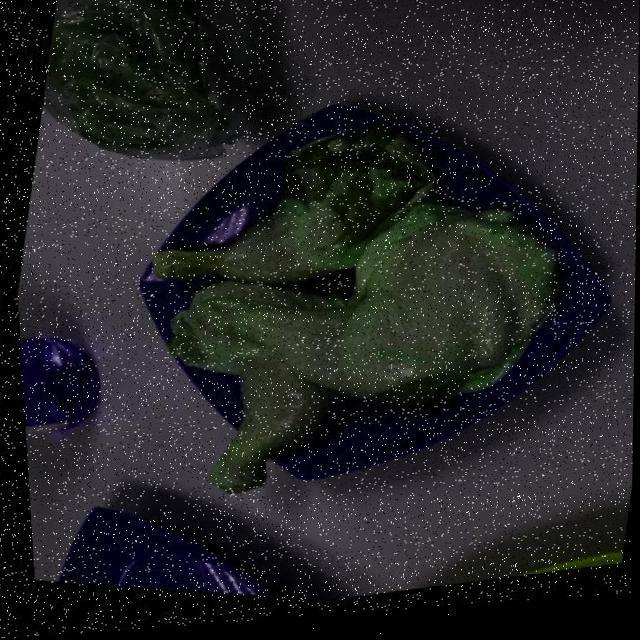quater: (188, 246, 558, 420), (87, 140, 413, 288), (167, 300, 332, 528)
